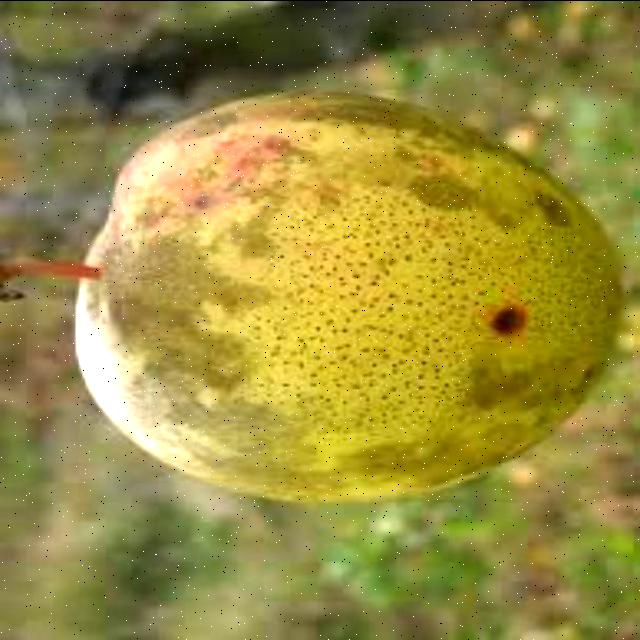BLOTCH: (44, 70, 640, 516)
